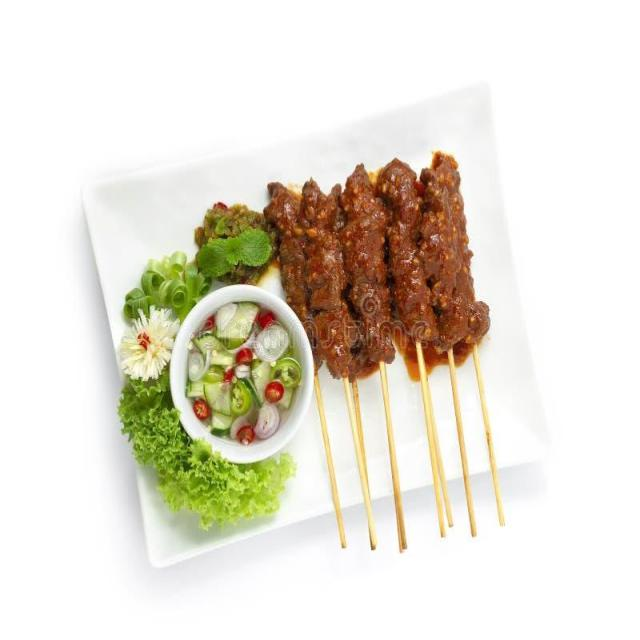Sate: (233, 165, 537, 557)
